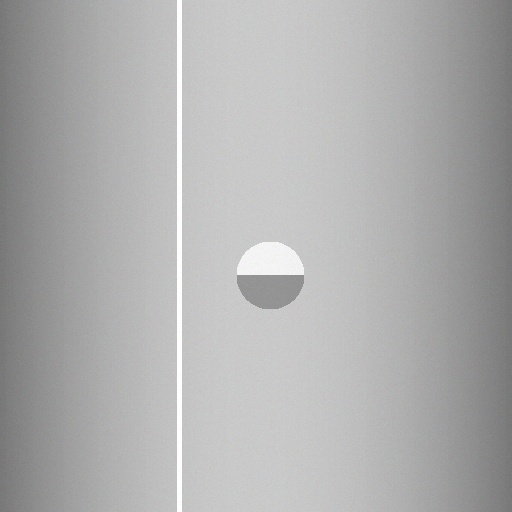deformation: (231, 236, 309, 314)
